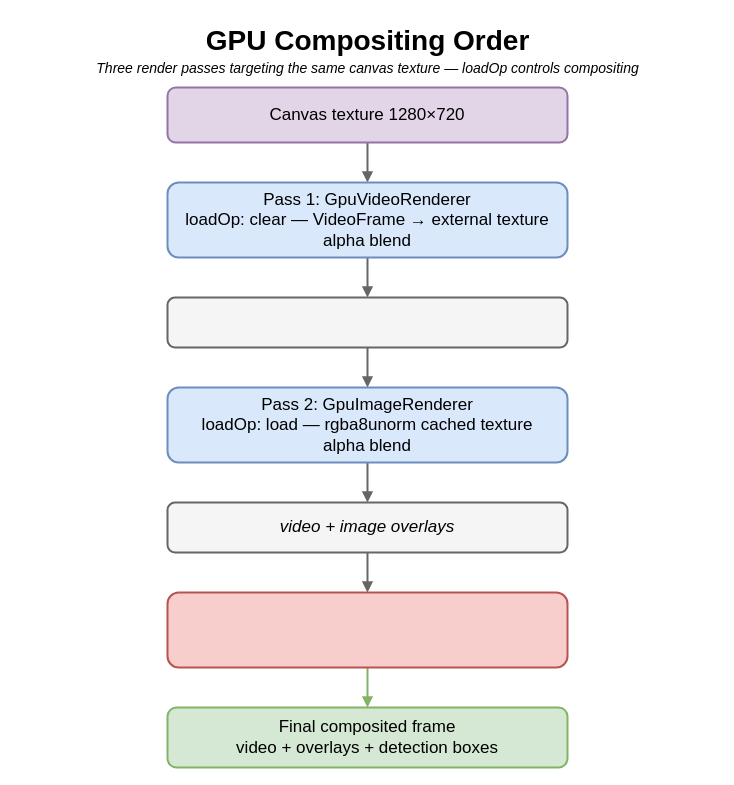
Some shapes in this 734 by 785 pixel diagram are drawn without their labels. Each missing label, with the centre of its shape:
Pass 3: GpuDetectionRenderer loadOp: load — uniform buffer box list alpha blend: point (367, 629)
video frame rendered: point (367, 322)
